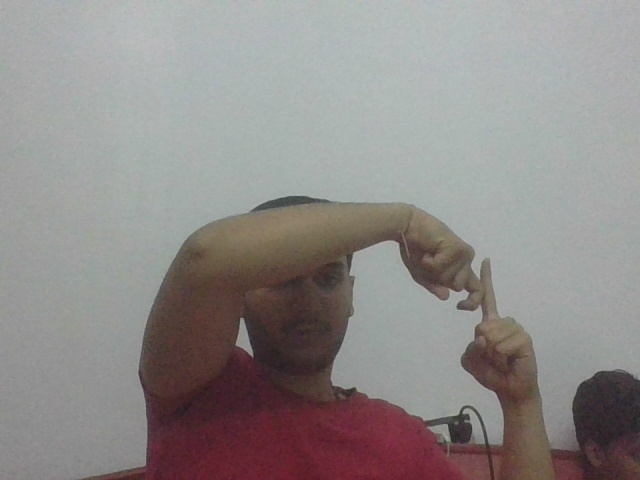K: (444, 248, 525, 334)
